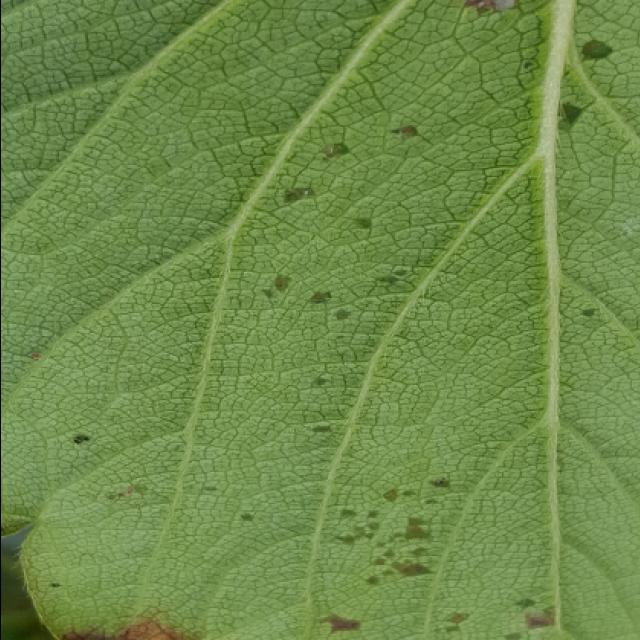Angular Leafspot: (36, 2, 633, 640)
